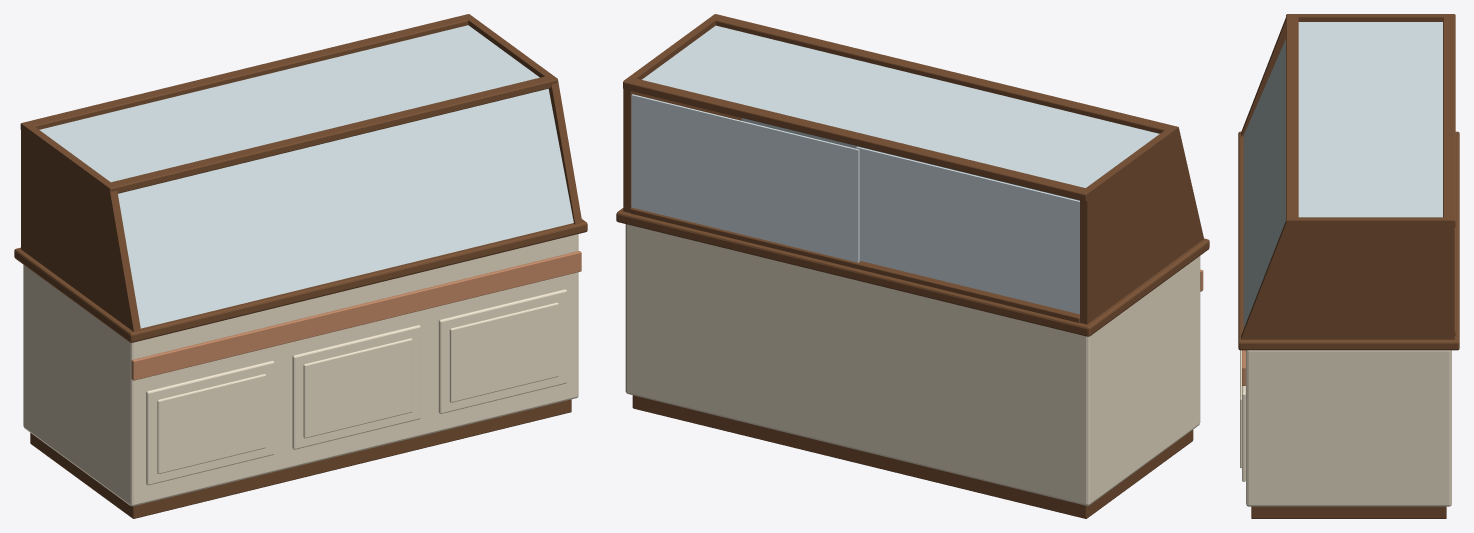
Rendered from bakeryCase.glb.
3 views of the same model, side by side, from view 1: azimuth 30°, elevation 25°; view 2: azimuth 150°, elevation 25°; view 3: azimuth 270°, elevation 25° (orthographic). The views are drawn at different scales.
Visible parts, largest first — view 1: case; view 2: case, back_door; view 3: case.
Boxes of the visible parts, <box> form: case: <box>14,14,587,518</box>; case: <box>616,14,1209,518</box>; back_door: <box>856,146,1079,314</box>; case: <box>1238,14,1459,518</box>.
Size of the model in its own units: 1.94 by 1.29 by 0.86.
